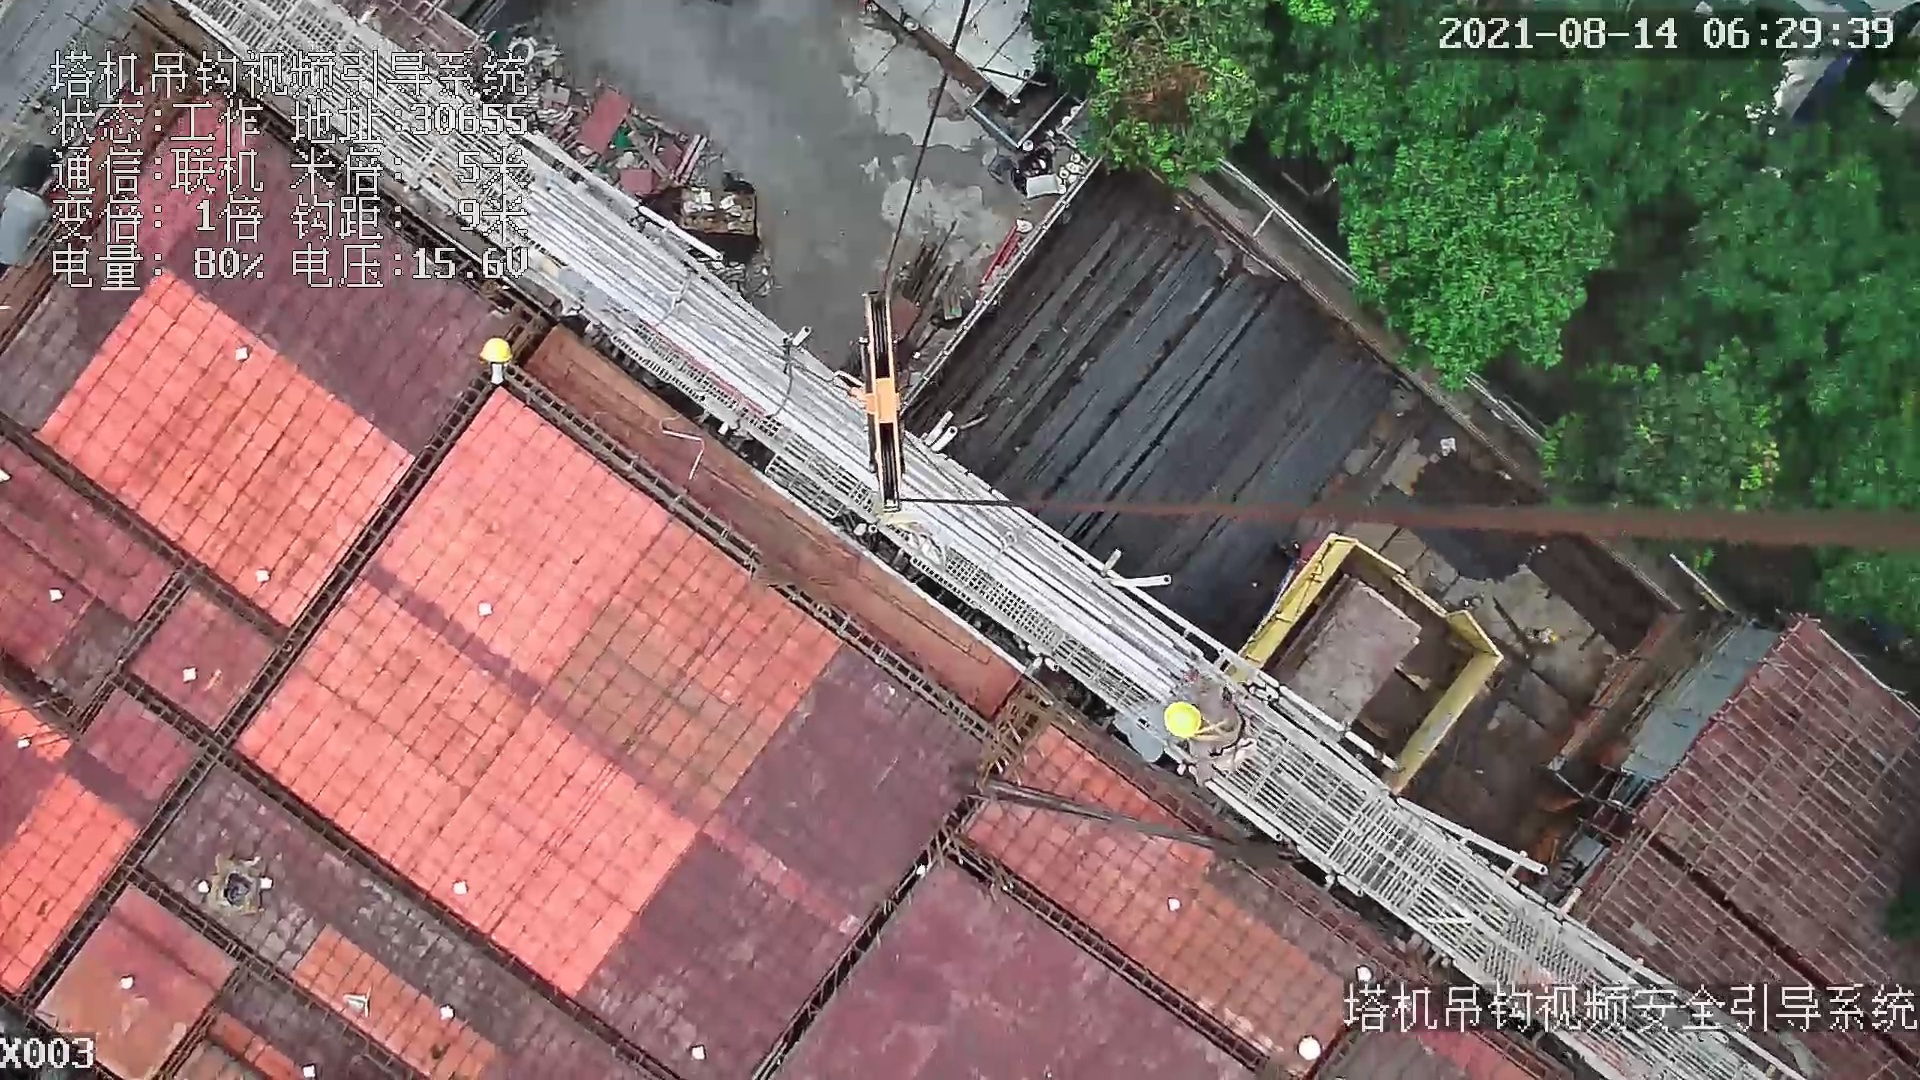helmet: (1165, 700, 1203, 747), (481, 335, 524, 368)
hook: (842, 285, 915, 514)
person: (1164, 686, 1260, 790)
rebar: (931, 199, 1403, 622)
